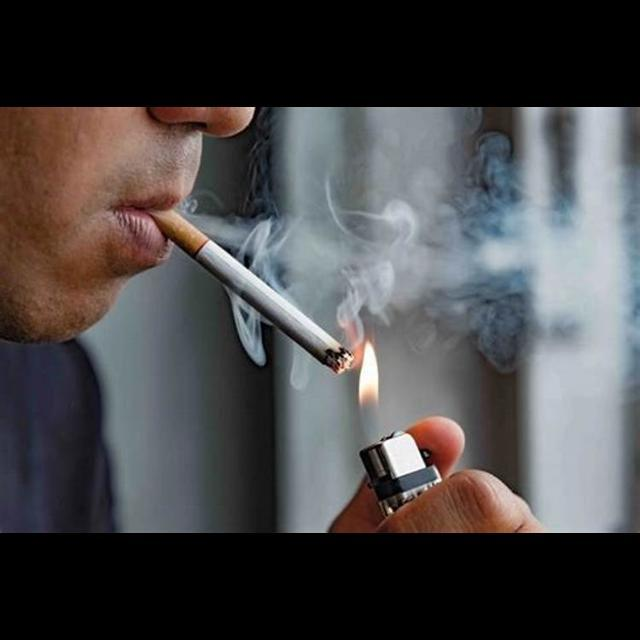rokok: (161, 199, 349, 395)
